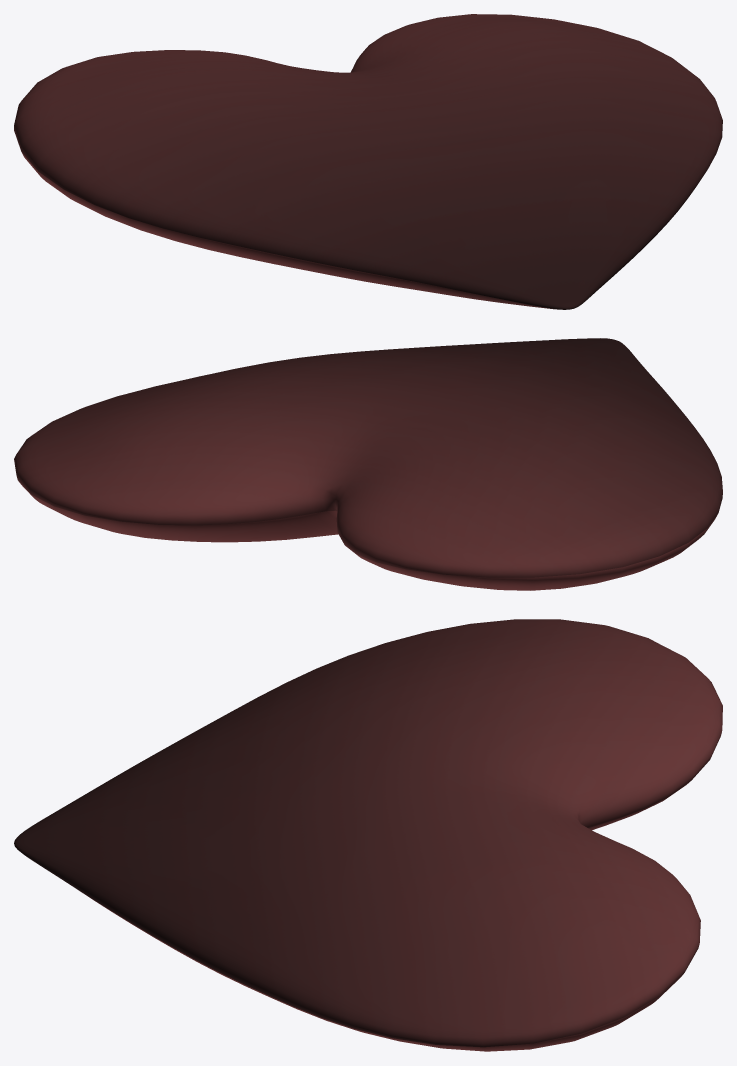
Rendered from heart.glb.
3 views of the same model, one above another, from view 1: azimuth 30°, elevation 25°; view 2: azimuth 150°, elevation 25°; view 3: azimuth 270°, elevation 25° (orthographic). The views are drawn at different scales.
Parts seen in each view (by area): view 1: cs_t_heart4; view 2: cs_t_heart4; view 3: cs_t_heart4.
Boxes of the visible parts, x1=… form: cs_t_heart4: x1=14, y1=14, x2=722, y2=309; cs_t_heart4: x1=14, y1=338, x2=722, y2=590; cs_t_heart4: x1=14, y1=619, x2=722, y2=1051.
Bounding box in the file's own units: 0.7399 × 0.1678 × 0.6388.
1 material, 1 textured.
